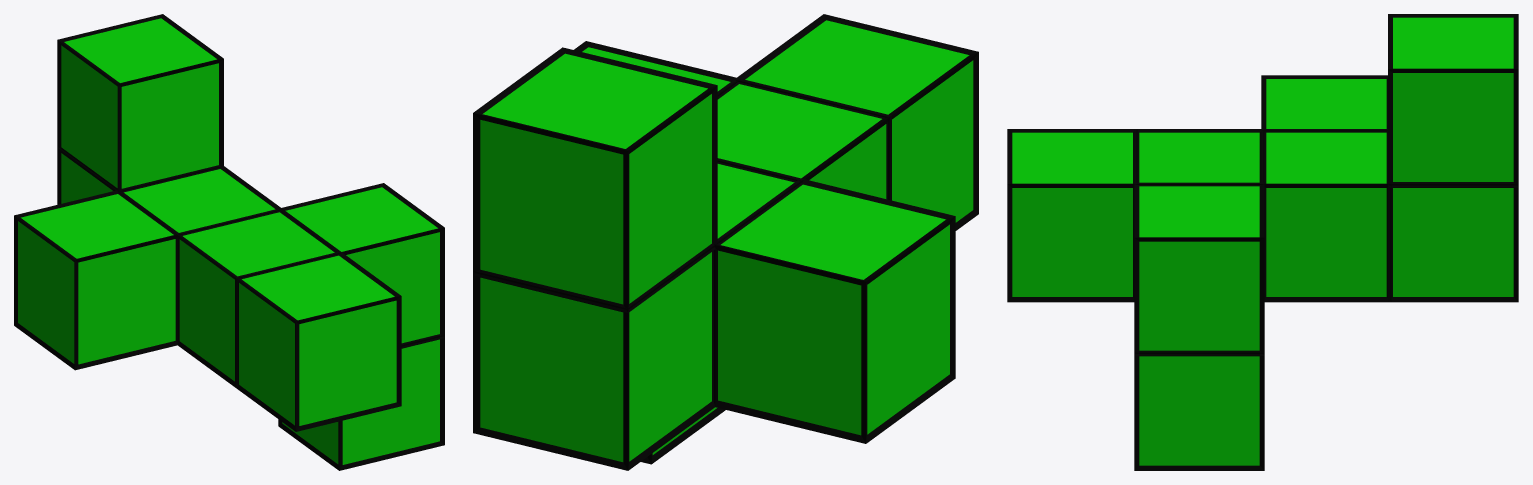
The picture shows the model from 3 angles, left to right: view 1: azimuth 30°, elevation 25°; view 2: azimuth 150°, elevation 25°; view 3: azimuth 270°, elevation 25°; orthographic projection. The views are drawn at different scales.
Parts seen in each view (by area): view 1: a:Mesh; view 2: a:Mesh; view 3: a:Mesh.
Part boxes in pixels (left/top/right/bottom): a:Mesh: left=14, top=14, right=444, bottom=470; a:Mesh: left=473, top=14, right=978, bottom=470; a:Mesh: left=1007, top=14, right=1518, bottom=470.
Bounding box in the file's own units: 6.06 × 6.06 × 8.06.
